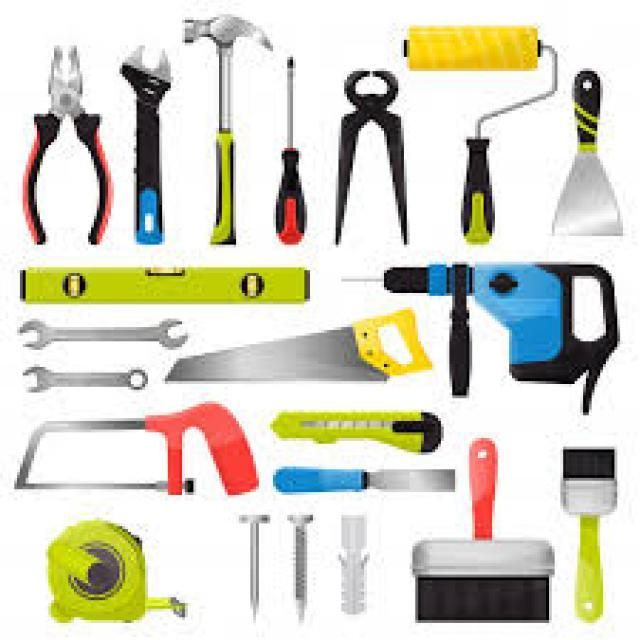hammer: (178, 5, 274, 254)
pliers: (19, 33, 117, 251), (328, 50, 419, 260)
wrench: (116, 34, 180, 248), (271, 44, 316, 258), (14, 310, 202, 358), (15, 361, 152, 399)
